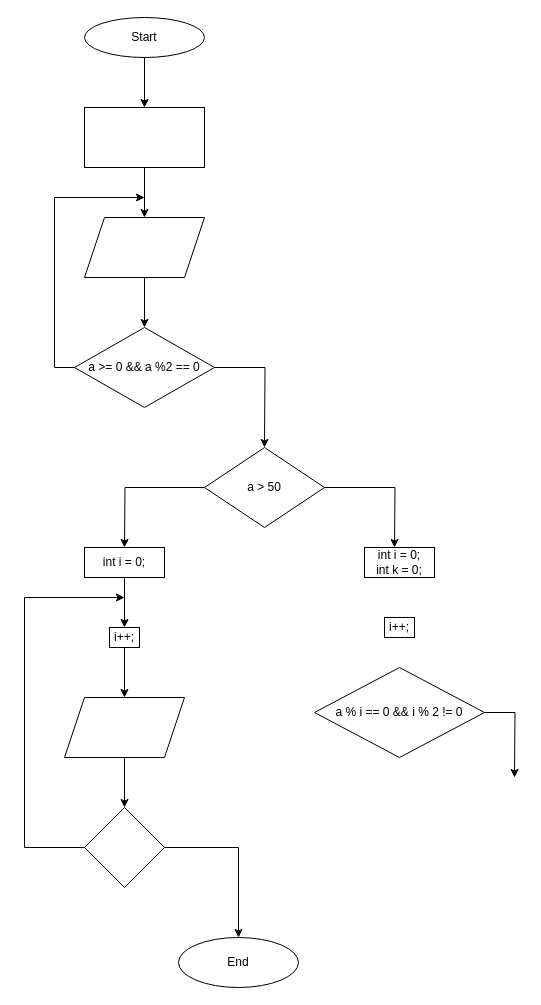
The diagram is 541 pixels wide and 1005 high, and some of its shapes have lost their labels. The centre of each missing label's shape, as x and y in pixels:
a = get_int("");: [144,247]
i / 3: [124,727]
i < a: [124,847]
int a = 0;: [144,137]
